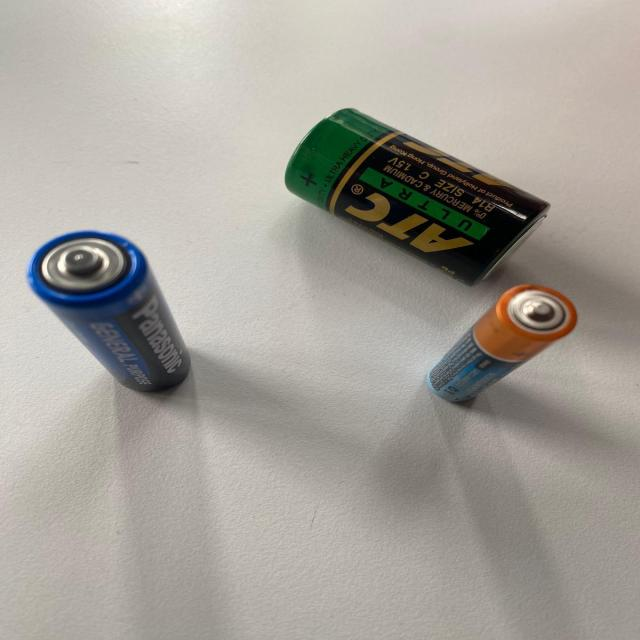AA: (25, 227, 193, 396)
AAA: (420, 283, 582, 407)
